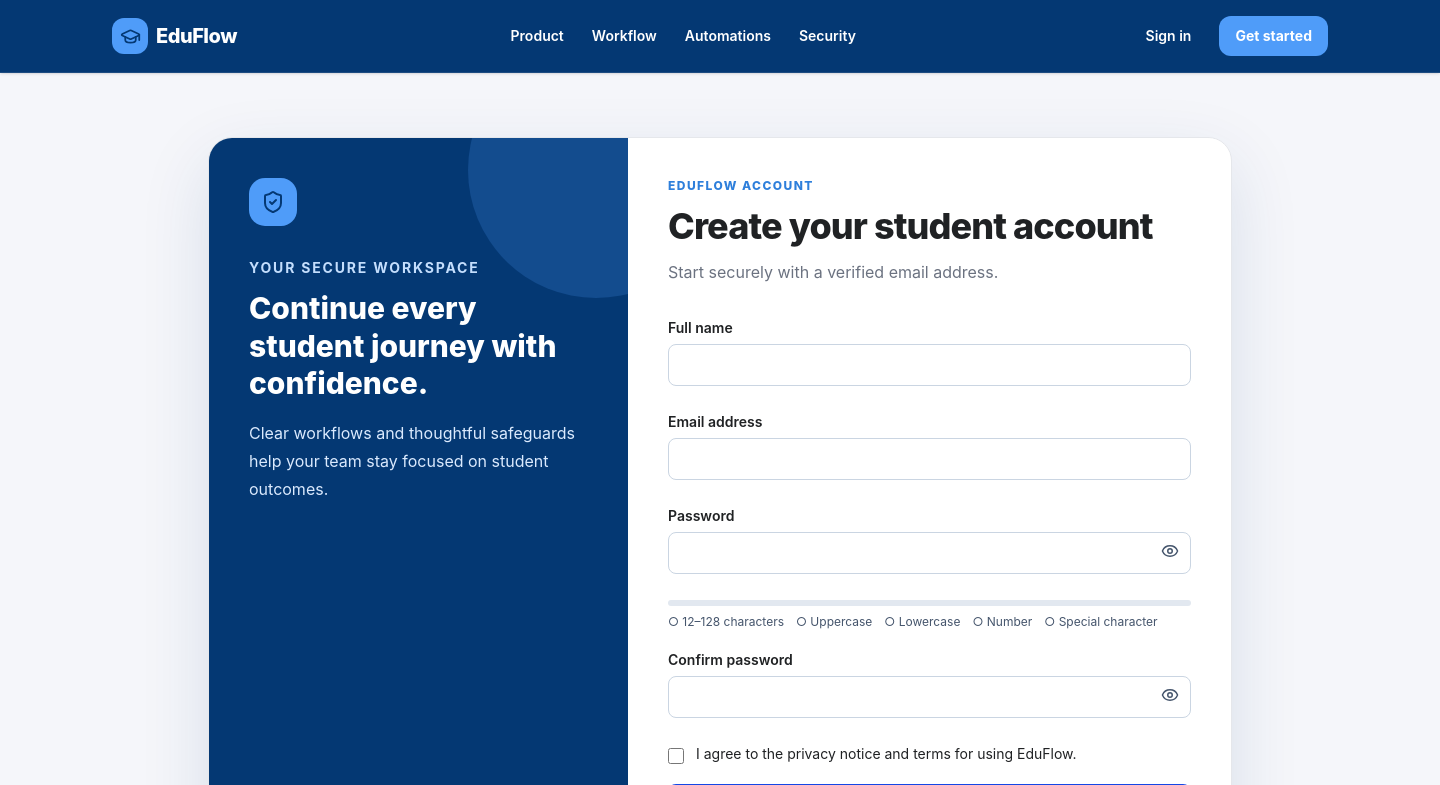
Test case: student registration interface › provides live password-strength feedback and visibility control
Type "Strong-Password7!" into the password field labelled "Password" at (930, 553), box left=668, top=532, right=1191, bottom=574
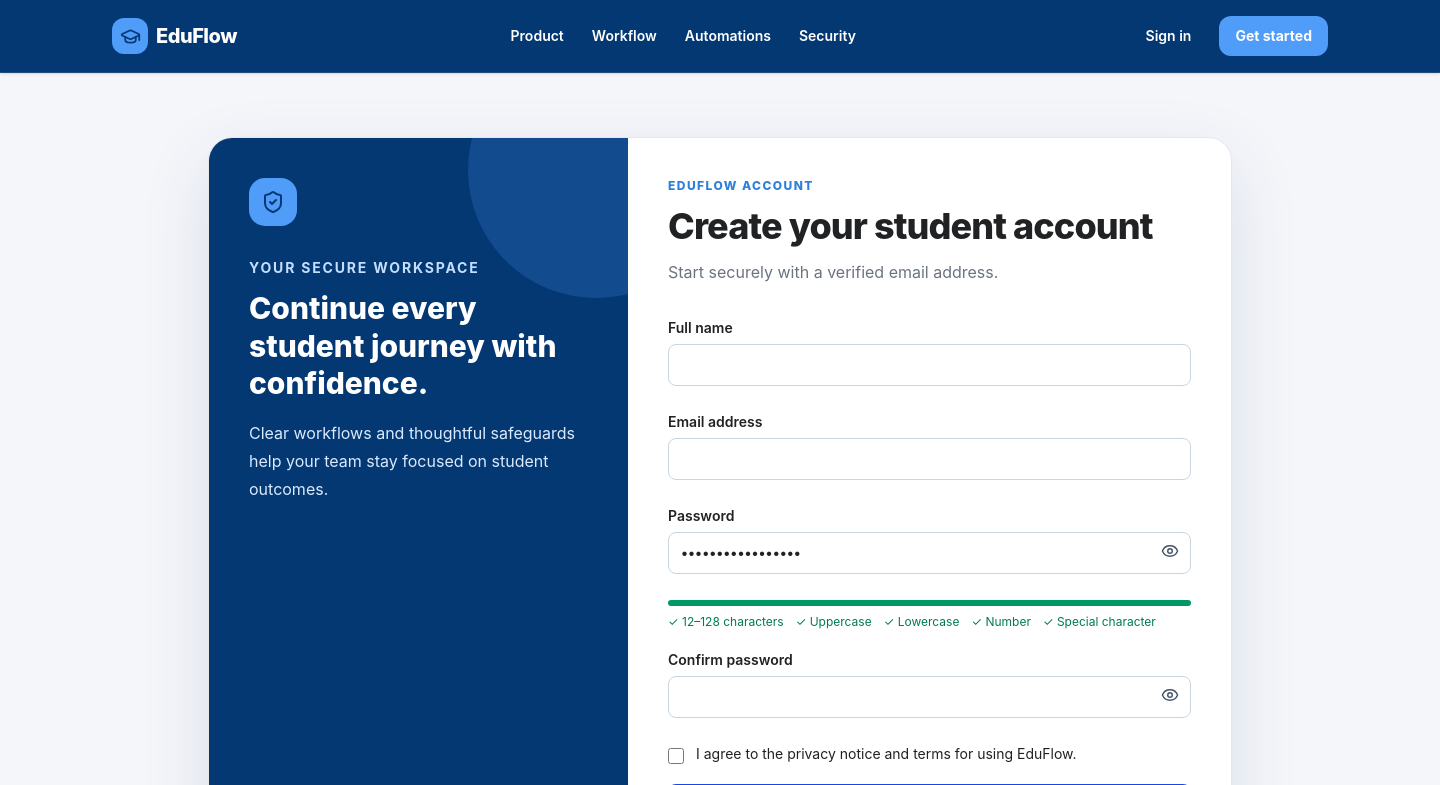
Now the list item "✓ 12–128 characters" is shown, box left=668, top=614, right=784, bottom=630
Click the 1st button named "Show password" at (1170, 551), box left=1157, top=538, right=1183, bottom=564
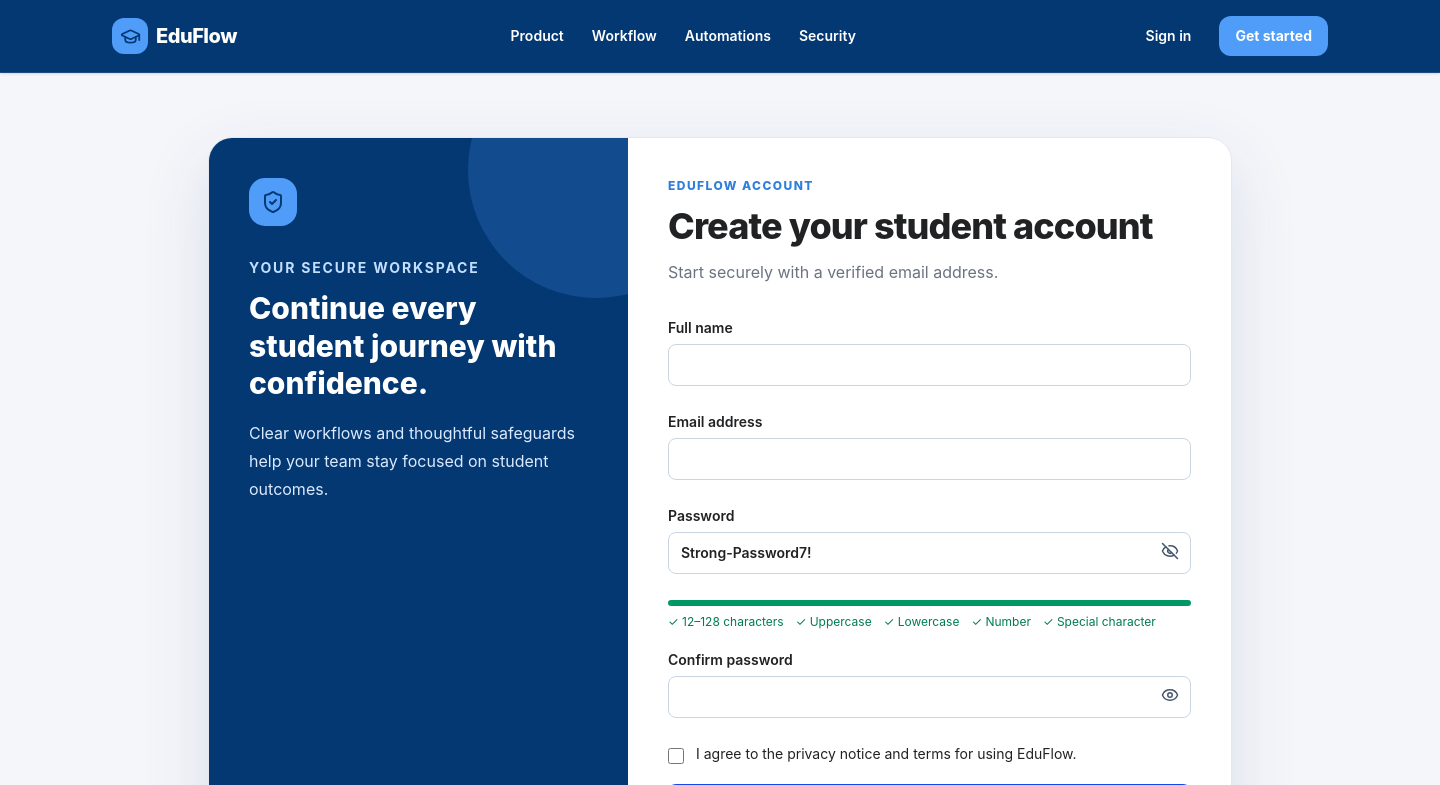
Now the field labelled "Password" shows its text, box left=668, top=532, right=1191, bottom=574
